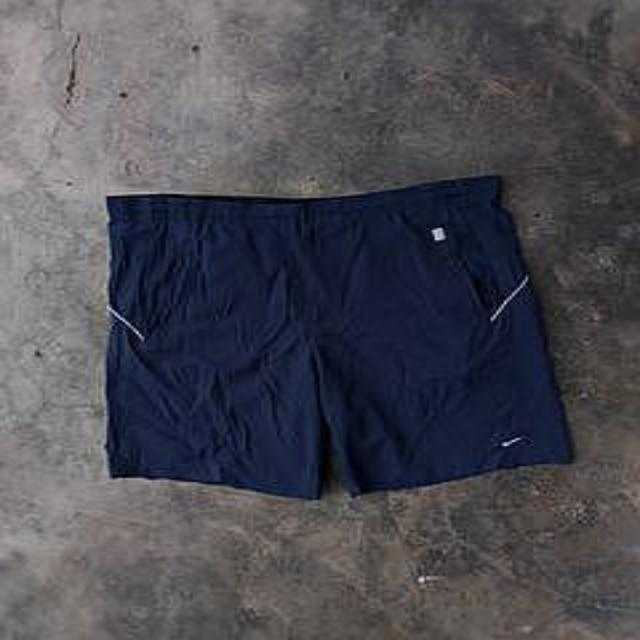SHORT: (89, 170, 590, 503)
